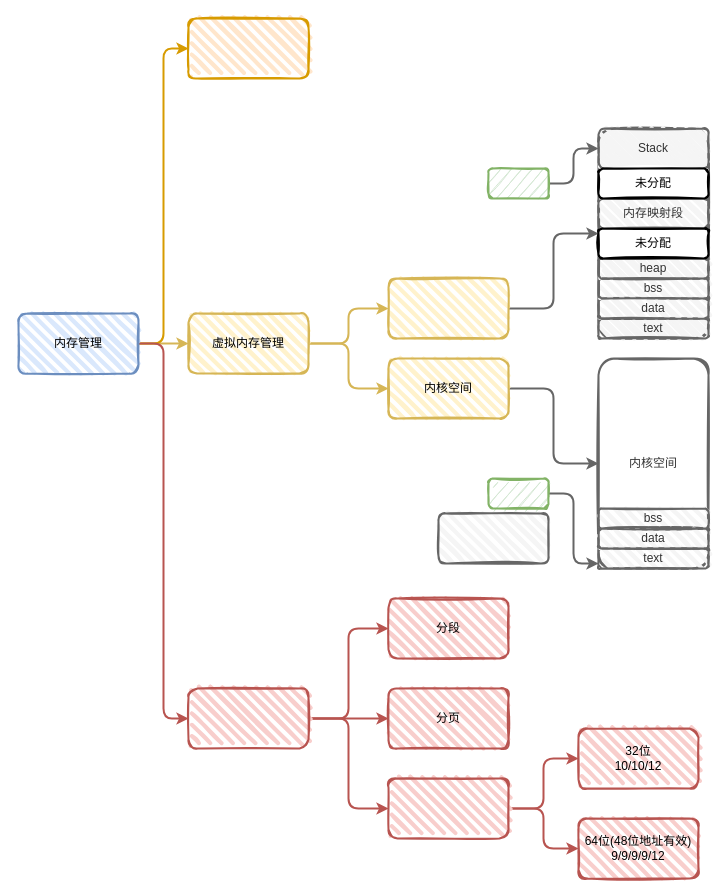
Image size: 726x896. Some labels were removed from this diagram. Each missing label, with the box of its shape:
物理内存管理: (187, 17, 309, 79)
用户空间: (387, 277, 509, 339)
虚拟地址和物理内存 映射关系: (187, 687, 309, 749)
虚拟地址映射: (387, 777, 509, 839)
进程共享: (487, 477, 549, 509)
进程独占: (487, 167, 549, 199)
进程独立的Stack: (437, 512, 549, 564)
